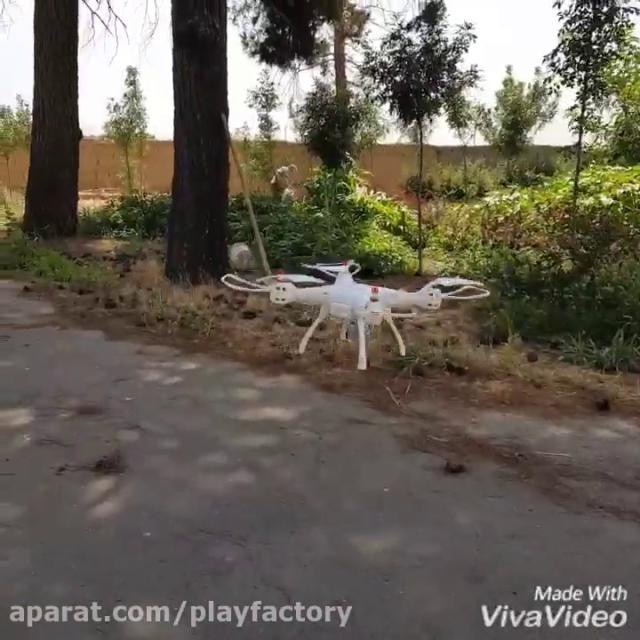drone: (216, 257, 494, 371)
